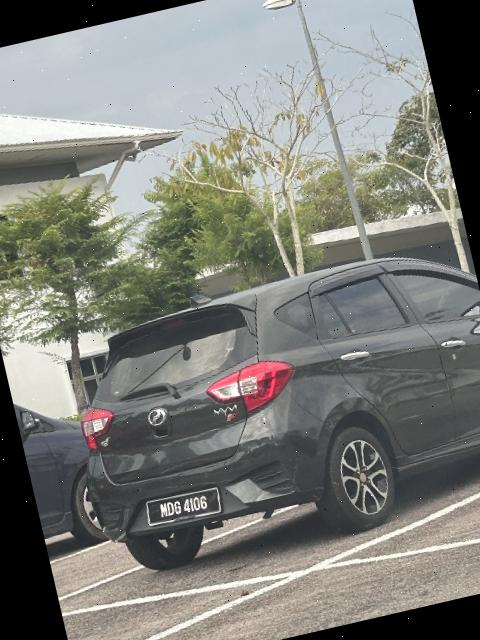License_Plate: (143, 483, 226, 532)
car: (50, 242, 480, 585)
